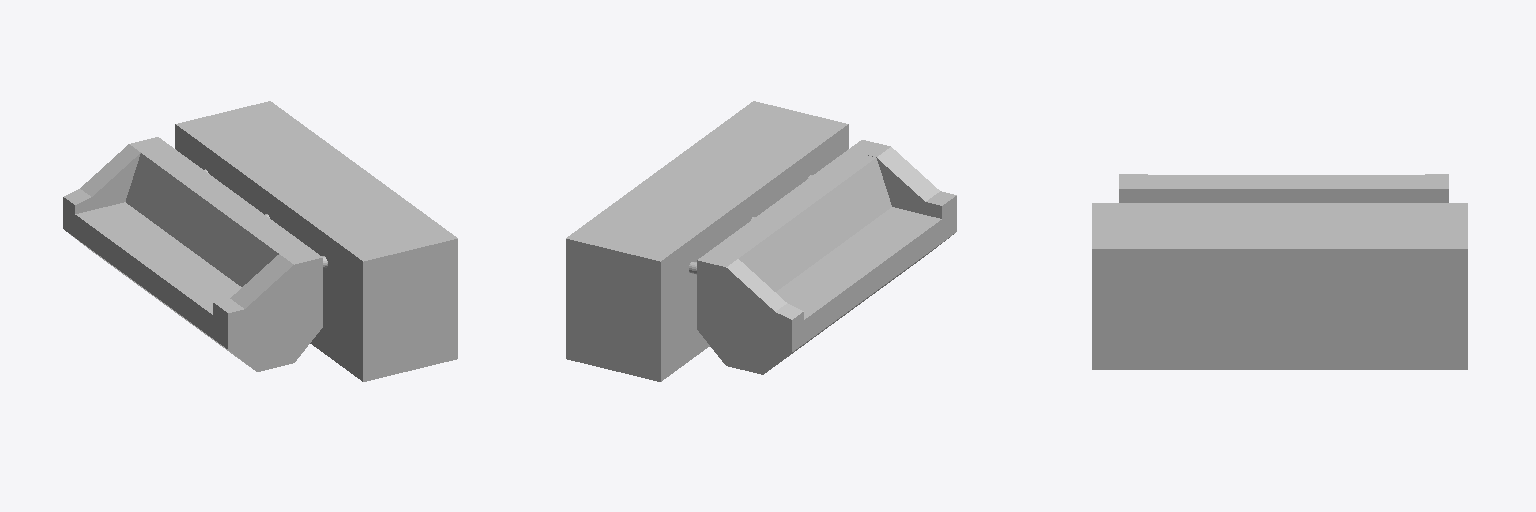
Rendered from Bench.obj.
3 views of the same model, side by side, from view 1: azimuth 30°, elevation 25°; view 2: azimuth 150°, elevation 25°; view 3: azimuth 270°, elevation 25° (orthographic).
Parts seen in each view (by area): view 1: pCube2, pCube1; view 2: pCube2, pCube1; view 3: pCube2, pCube1.
Part boxes in pixels (x1,y1,x2,y2): pCube2: (175, 101, 457, 381); pCube1: (63, 137, 322, 371); pCube2: (566, 101, 848, 381); pCube1: (697, 140, 956, 374); pCube2: (1092, 203, 1467, 369); pCube1: (1119, 174, 1448, 202).
Bounding box in the file's own units: 2.28 × 1.22 × 3.43.